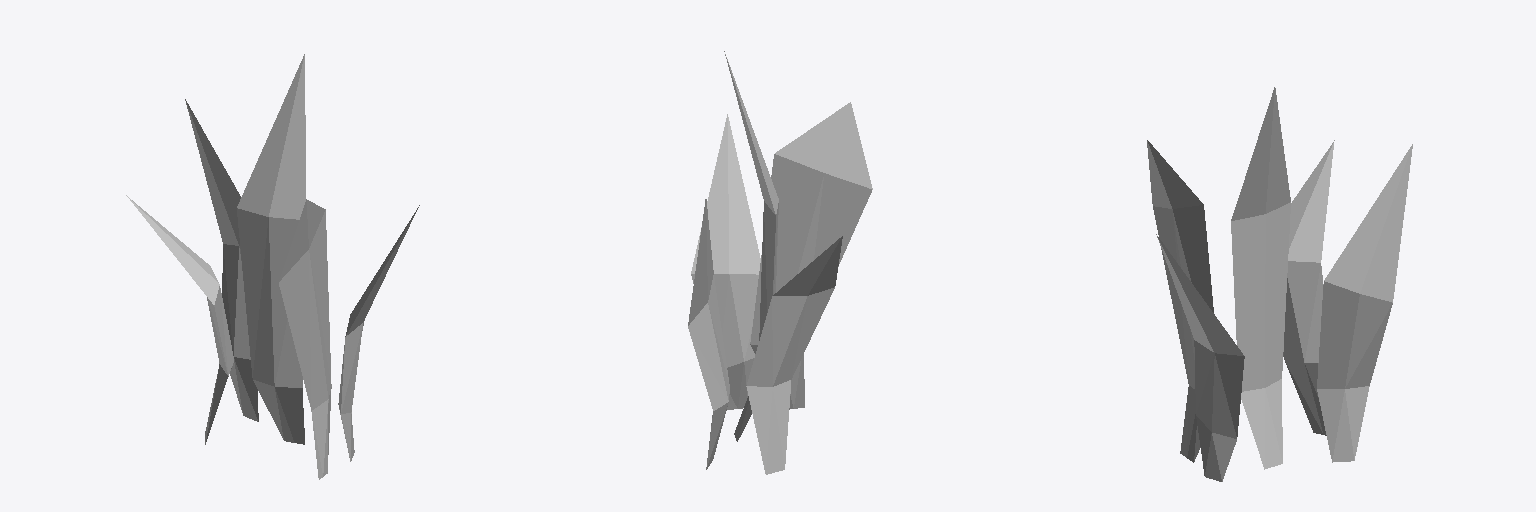
File: grass.obj
3 renders of one model, left to right at view 1: azimuth 30°, elevation 25°; view 2: azimuth 150°, elevation 25°; view 3: azimuth 270°, elevation 25°, orthographic.
Visible parts, largest first — view 1: DetailMesh_Grass; view 2: DetailMesh_Grass; view 3: DetailMesh_Grass.
Part boxes in pixels (x1,y1,x2,y2): DetailMesh_Grass: (126, 54, 419, 479); DetailMesh_Grass: (688, 51, 872, 474); DetailMesh_Grass: (1147, 87, 1412, 481).
Size of the model in its own units: 0.7213 by 1.3 by 0.8134.